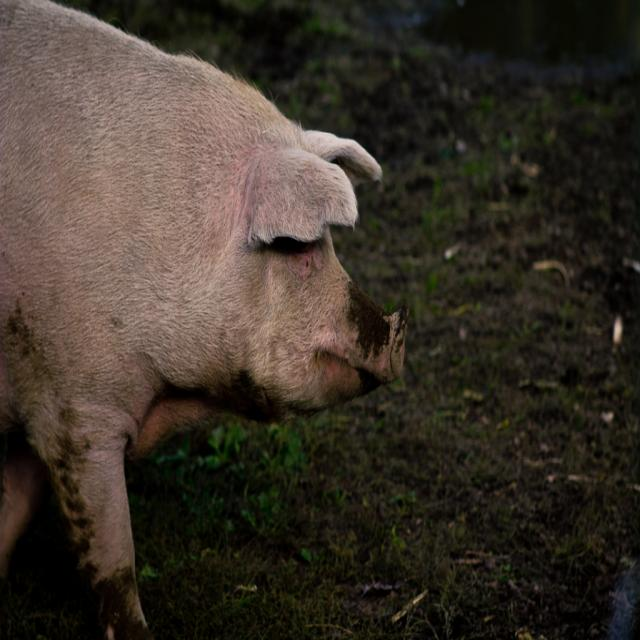Pig: (0, 0, 408, 639)
